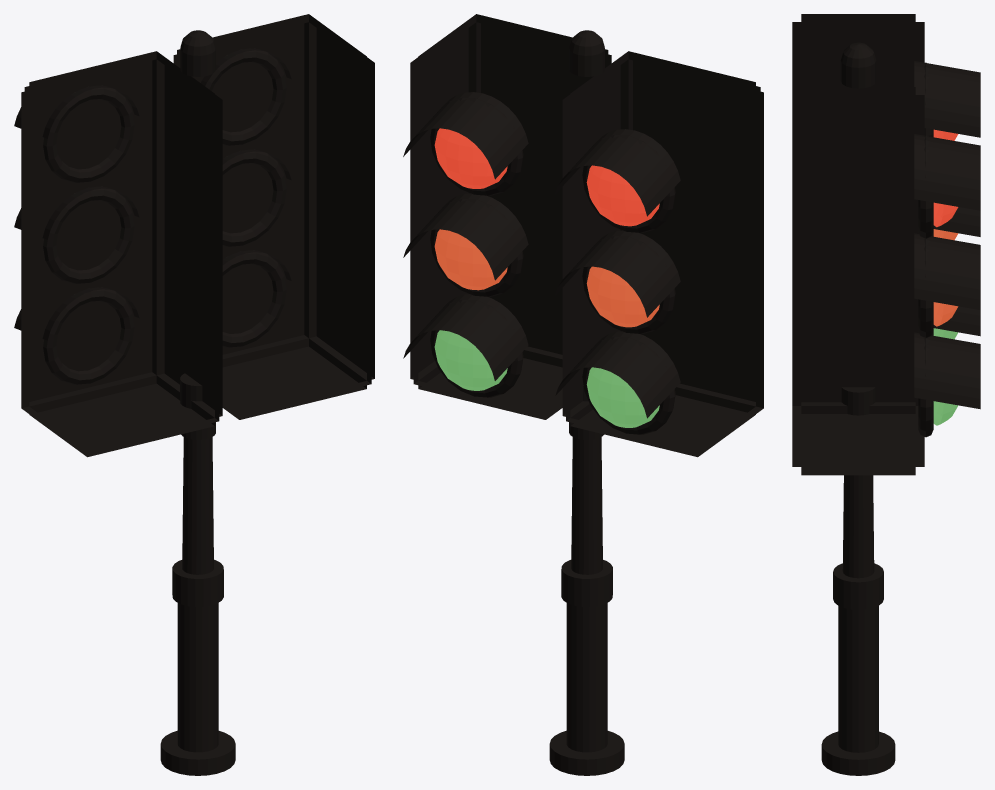
The model's file is 35-traffic-light.glb.
The picture shows the model from 3 angles, left to right: view 1: azimuth 30°, elevation 25°; view 2: azimuth 150°, elevation 25°; view 3: azimuth 270°, elevation 25°; orthographic projection.
Visible parts, largest first — view 1: HeadL, HeadR, PoleLower, PoleUpper, Bezel_red_-0.34, Bezel_orange_-0.34, Bezel_green_-0.34, Bezel_red_+0.34, BaseFlange, Bezel_green_+0.34, Bezel_orange_+0.34, CollarRing (+6 smaller); view 2: HeadL, HeadR, PoleLower, Hood_red_+0.34, Hood_red_-0.34, Hood_orange_+0.34, Hood_orange_-0.34, Hood_green_-0.34, Hood_green_+0.34, PoleUpper, Lens_orange_-0.34, Lens_red_+0.34 (+14 smaller); view 3: HeadR, HeadL, PoleLower, Hood_red_+0.34, Hood_green_+0.34, Hood_orange_+0.34, Hood_red_-0.34, PoleUpper, BaseFlange, CollarRing, Hood_orange_-0.34, Hood_green_-0.34 (+9 smaller).
Part boxes in pixels (x1=…): HeadL: x1=21, y1=51, x2=222, y2=457; HeadR: x1=173, y1=14, x2=374, y2=419; PoleLower: x1=177, y1=603, x2=218, y2=752; PoleUpper: x1=182, y1=437, x2=213, y2=574; Bezel_red_-0.34: x1=43, y1=85, x2=134, y2=182; Bezel_orange_-0.34: x1=43, y1=186, x2=134, y2=283; Bezel_green_-0.34: x1=43, y1=287, x2=134, y2=384; Bezel_red_+0.34: x1=205, y1=48, x2=286, y2=145; BaseFlange: x1=160, y1=730, x2=235, y2=775; Bezel_green_+0.34: x1=222, y1=250, x2=286, y2=347; Bezel_orange_+0.34: x1=222, y1=149, x2=286, y2=246; CollarRing: x1=172, y1=559, x2=223, y2=606; HeadL: x1=562, y1=51, x2=763, y2=457; HeadR: x1=410, y1=14, x2=611, y2=419; PoleLower: x1=566, y1=603, x2=607, y2=752; Hood_red_+0.34: x1=403, y1=92, x2=528, y2=179; Hood_red_-0.34: x1=555, y1=129, x2=680, y2=216; Hood_orange_+0.34: x1=403, y1=193, x2=528, y2=280; Hood_orange_-0.34: x1=555, y1=230, x2=680, y2=317; Hood_green_-0.34: x1=555, y1=331, x2=680, y2=418; Hood_green_+0.34: x1=403, y1=294, x2=528, y2=380; PoleUpper: x1=571, y1=437, x2=602, y2=574; Lens_orange_-0.34: x1=586, y1=266, x2=659, y2=327; Lens_red_+0.34: x1=434, y1=128, x2=507, y2=188; HeadR: x1=792, y1=87, x2=924, y2=475; HeadL: x1=792, y1=14, x2=924, y2=94; PoleLower: x1=838, y1=605, x2=878, y2=752; Hood_red_+0.34: x1=914, y1=134, x2=980, y2=210; Hood_green_+0.34: x1=914, y1=332, x2=980, y2=409; Hood_orange_+0.34: x1=914, y1=233, x2=980, y2=309; Hood_red_-0.34: x1=914, y1=61, x2=980, y2=137; PoleUpper: x1=842, y1=475, x2=874, y2=578; BaseFlange: x1=821, y1=731, x2=895, y2=775; CollarRing: x1=833, y1=563, x2=883, y2=609; Hood_orange_-0.34: x1=933, y1=207, x2=980, y2=236; Hood_green_-0.34: x1=933, y1=306, x2=980, y2=336.
Size of the model in its own units: 1.32 by 3.11 by 0.74.
